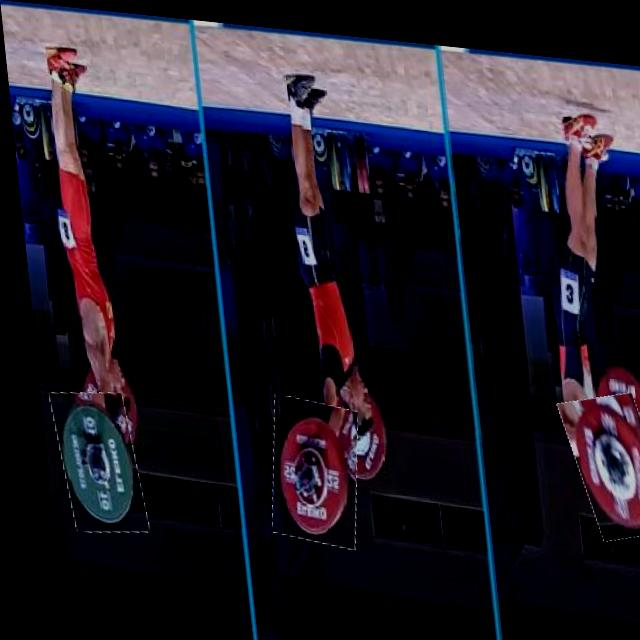barbell: (255, 391, 357, 544), (45, 388, 137, 536), (557, 378, 640, 532)
